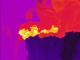Foc: (18, 28, 29, 40), (30, 24, 39, 38), (50, 24, 60, 34), (40, 28, 49, 36)
